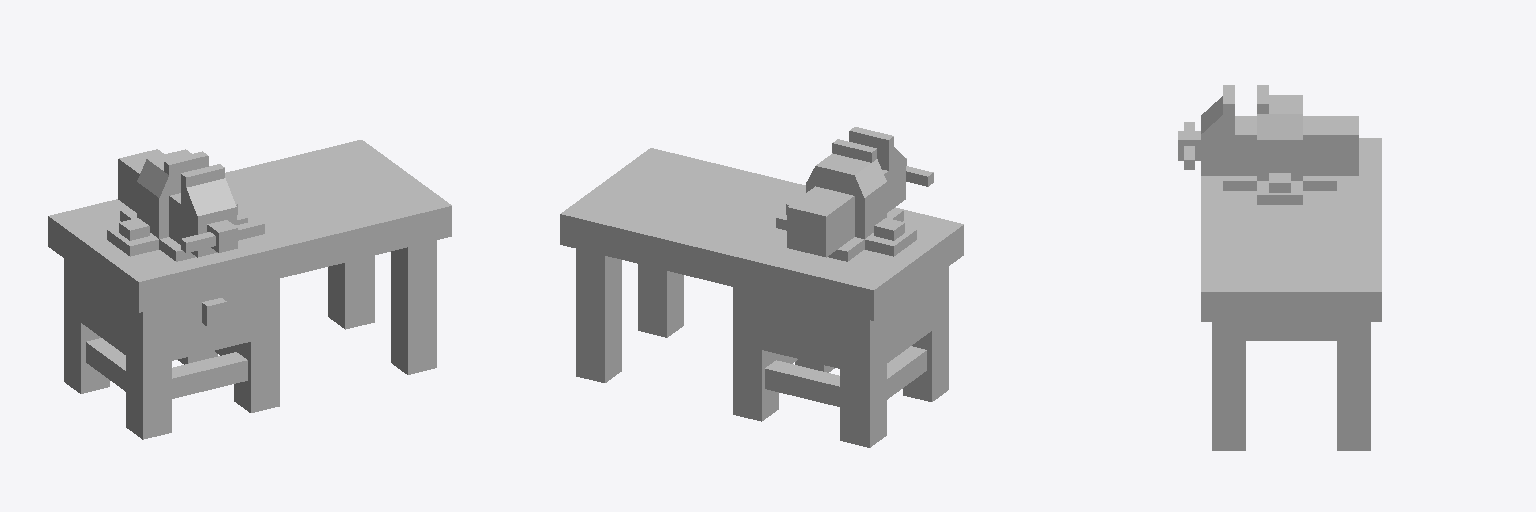
File: workbench.obj
3 views of the same model, side by side, from view 1: azimuth 30°, elevation 25°; view 2: azimuth 150°, elevation 25°; view 3: azimuth 270°, elevation 25° (orthographic).
Visible parts, largest first — view 1: cube0; view 2: cube0; view 3: cube0.
Boxes of the visible parts, box(x1,y1,x2,y2) form: cube0: box(48, 140, 451, 439); cube0: box(560, 127, 963, 447); cube0: box(1178, 85, 1381, 450).
Size of the model in its own units: 2 by 1.5 by 1.12.